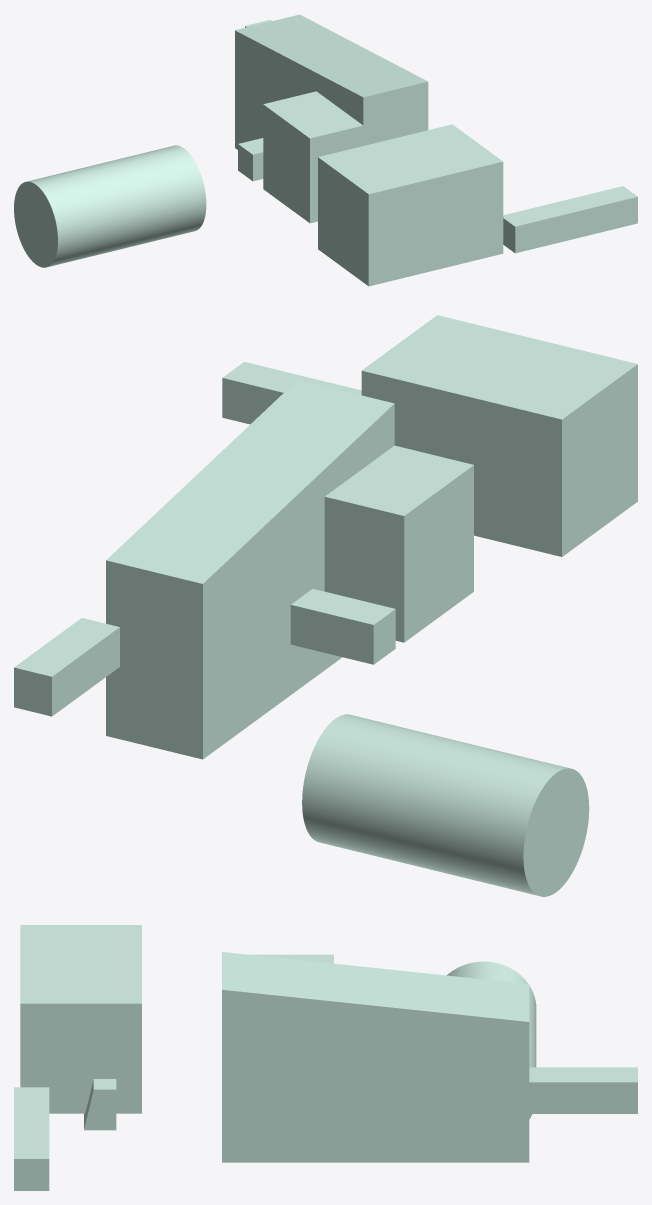
The picture shows the model from 3 angles, top to bottom: view 1: azimuth 30°, elevation 25°; view 2: azimuth 150°, elevation 25°; view 3: azimuth 270°, elevation 25°; orthographic projection. The views are drawn at different scales.
Visible parts, largest first — view 1: Renderer Node; view 2: Renderer Node; view 3: Renderer Node.
Boxes of the visible parts, x1,y1,x2,y2 form: Renderer Node: (14, 14, 637, 286); Renderer Node: (14, 315, 637, 896); Renderer Node: (14, 925, 637, 1190).
Bounding box in the file's own units: 1.37 × 0.6257 × 1.52.
